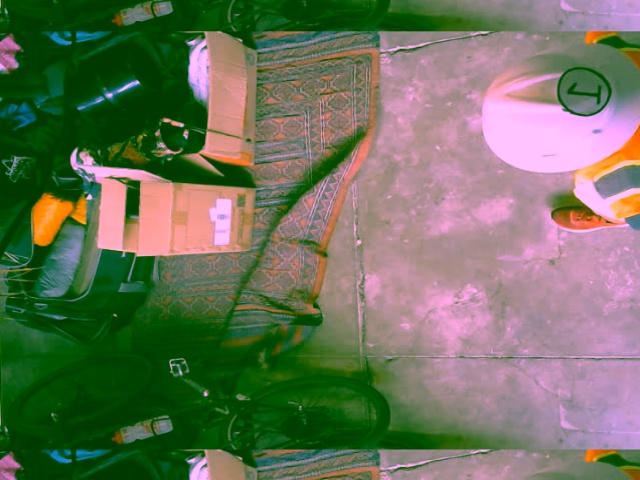one: (557, 67, 609, 115)
